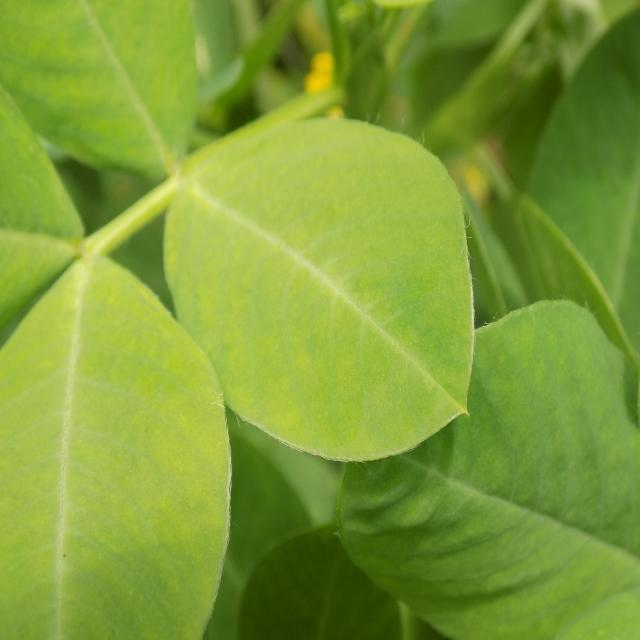Ground nut_healthy: (164, 114, 476, 460)
